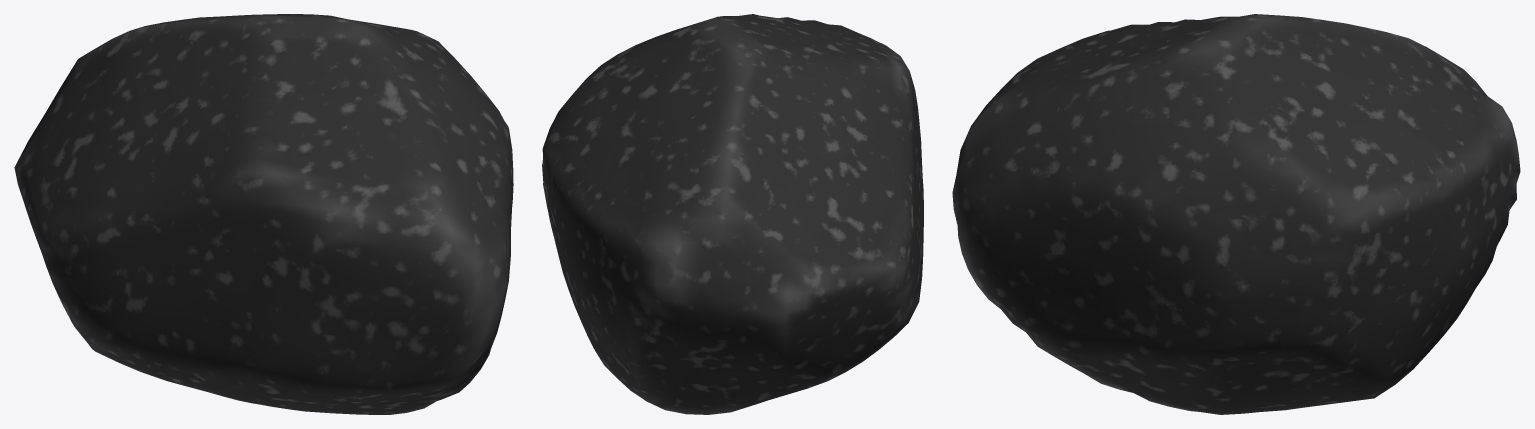
File: lunar_rock9.glb
The picture shows the model from 3 angles, left to right: view 1: azimuth 30°, elevation 25°; view 2: azimuth 150°, elevation 25°; view 3: azimuth 270°, elevation 25°; orthographic projection. The views are drawn at different scales.
Parts seen in each view (by area): view 1: lunar_rock_9; view 2: lunar_rock_9; view 3: lunar_rock_9.
Part boxes in pixels (left/top/right/bottom): lunar_rock_9: left=14, top=14, right=513, bottom=414; lunar_rock_9: left=542, top=14, right=923, bottom=414; lunar_rock_9: left=952, top=14, right=1520, bottom=414.
Bounding box in the file's own units: 0.113 × 0.1044 × 0.1428.
Materials: 1 (1 with a texture image).
